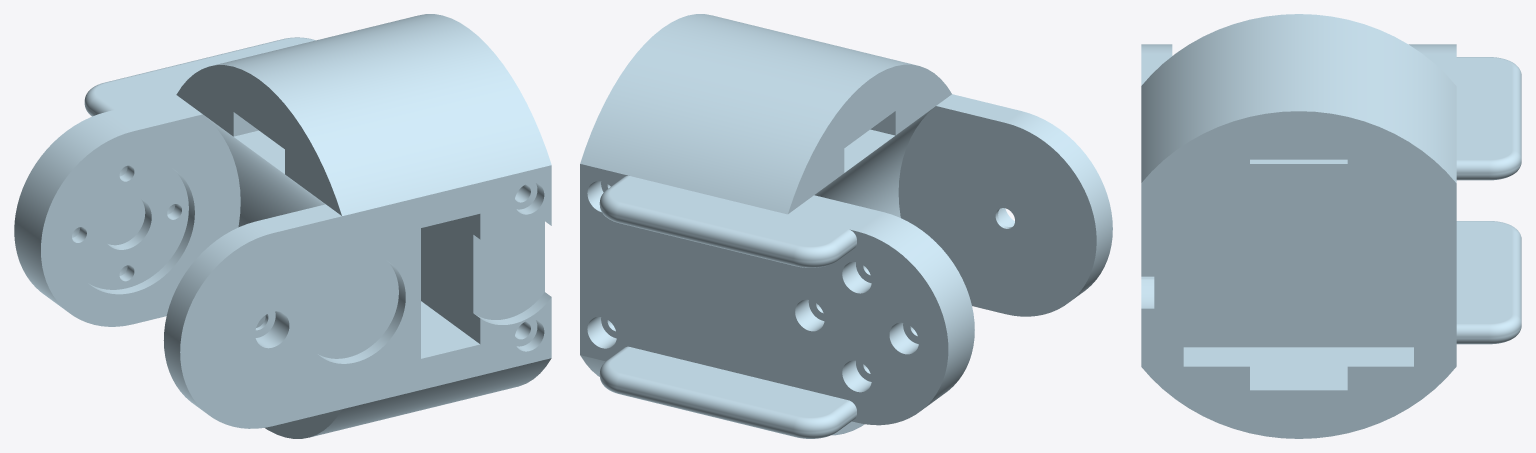
File: _MVGPnbxdoVRLzajDB.gltf
3 views of the same model, side by side, from view 1: azimuth 30°, elevation 25°; view 2: azimuth 150°, elevation 25°; view 3: azimuth 270°, elevation 25° (orthographic). The views are drawn at different scales.
Parts seen in each view (by area): view 1: SnakeBody; view 2: SnakeBody; view 3: SnakeBody.
Boxes of the visible parts, x1,y1,x2,y2 form: SnakeBody: [14, 14, 551, 438]; SnakeBody: [580, 14, 1112, 438]; SnakeBody: [1141, 14, 1521, 438].
Size of the model in its own units: 0.0625 by 0.0554 by 0.0583.
